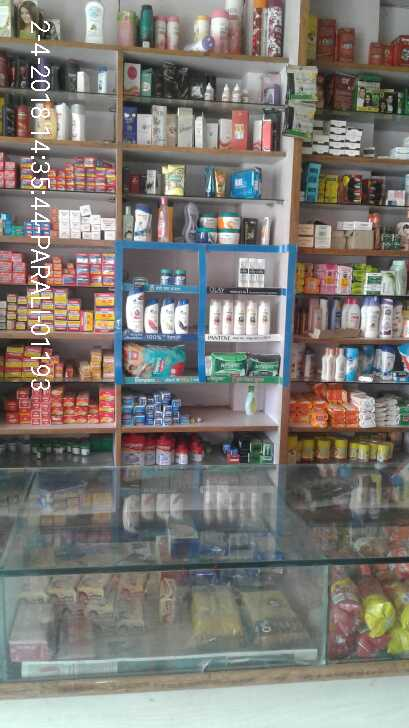vicks: (158, 266, 190, 285)
